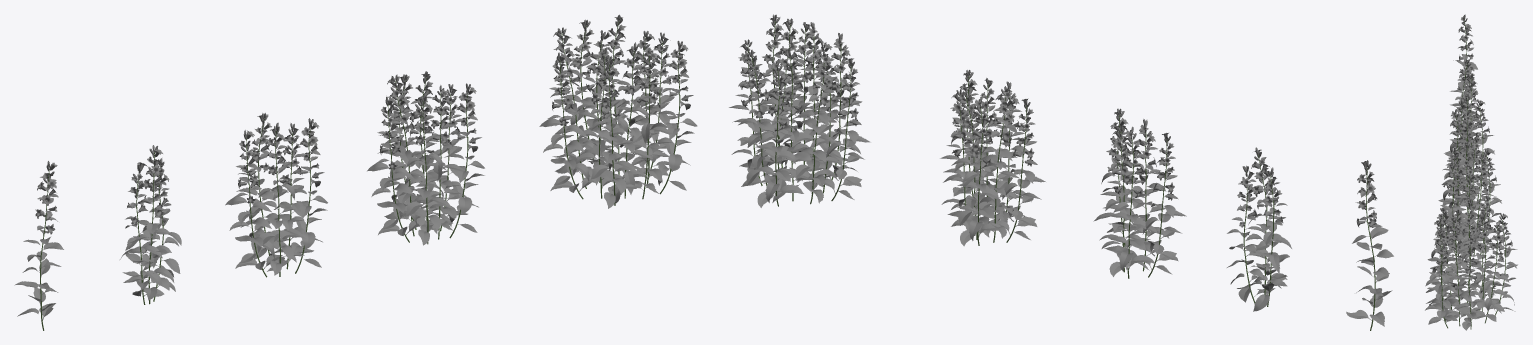
Rendered from Campanula_latifolia_FBX.fbx.
The picture shows the model from 3 angles, left to right: view 1: azimuth 30°, elevation 25°; view 2: azimuth 150°, elevation 25°; view 3: azimuth 270°, elevation 25°; orthographic projection. The views are drawn at different scales.
Parts seen in each view (by area): view 1: Campanula_latifolia_005, Campanula_latifolia_004, Campanula_latifolia_003, Campanula_latifolia_002, Campanula_latifolia_1; view 2: Campanula_latifolia_005, Campanula_latifolia_004, Campanula_latifolia_003, Campanula_latifolia_002, Campanula_latifolia_1; view 3: Campanula_latifolia_005, Campanula_latifolia_004, Campanula_latifolia_003, Campanula_latifolia_002, Campanula_latifolia_1.
Part boxes in pixels (x1,y1,x2,y2): Campanula_latifolia_005: (539,14,697,208); Campanula_latifolia_004: (367,71,484,245); Campanula_latifolia_003: (225,113,327,277); Campanula_latifolia_002: (120,145,181,304); Campanula_latifolia_1: (14,161,63,330); Campanula_latifolia_005: (729,14,870,207); Campanula_latifolia_004: (940,70,1045,246); Campanula_latifolia_003: (1093,108,1186,278); Campanula_latifolia_002: (1227,147,1291,311); Campanula_latifolia_1: (1346,160,1393,330); Campanula_latifolia_005: (1425,195,1517,330); Campanula_latifolia_004: (1437,136,1501,259); Campanula_latifolia_003: (1441,93,1496,205); Campanula_latifolia_002: (1450,59,1484,162); Campanula_latifolia_1: (1450,14,1477,121).
Bounding box in the file's own units: 4695 × 1158 × 858.
